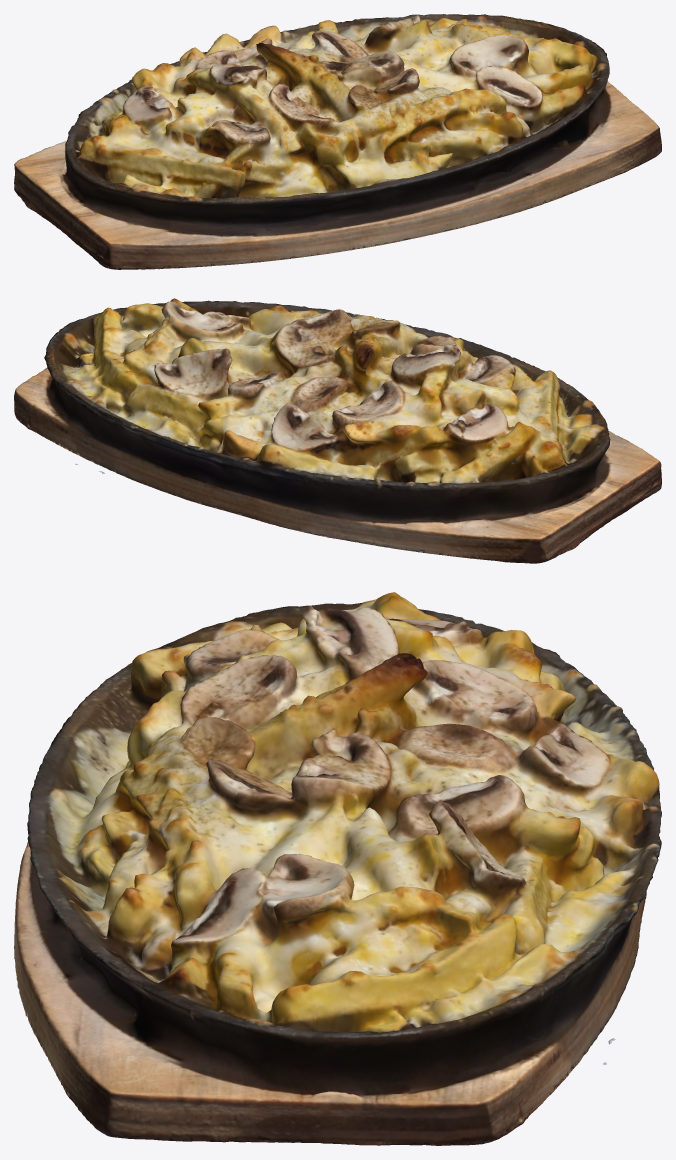
Rendered from Sibzamini.Panir.glb.
3 views of the same model, one above another, from view 1: azimuth 30°, elevation 25°; view 2: azimuth 150°, elevation 25°; view 3: azimuth 270°, elevation 25° (orthographic). The views are drawn at different scales.
Parts seen in each view (by area): view 1: 3DModel; view 2: 3DModel; view 3: 3DModel.
Boxes of the visible parts, bbox=[...] form: 3DModel: bbox=[14, 14, 661, 269]; 3DModel: bbox=[14, 298, 661, 563]; 3DModel: bbox=[14, 592, 661, 1145].
Size of the model in its own units: 0.4043 by 0.0885 by 0.2379.
Materials: 1 (1 with a texture image).
